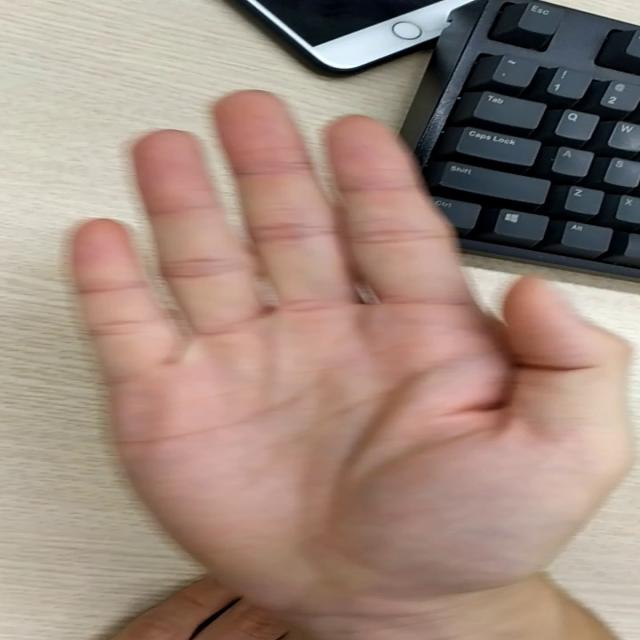hand: (71, 87, 602, 561)
